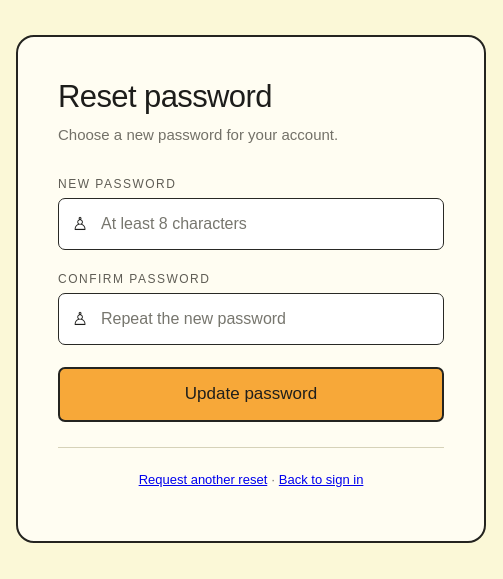
Test: ResetPassword page › shows the server error for an expired token and offers another reset
This screenshot has width=503, height=579.
Type "newpass12" into the password field labelled "NEW PASSWORD" at x=272, y=224, box [101,199,443,249]
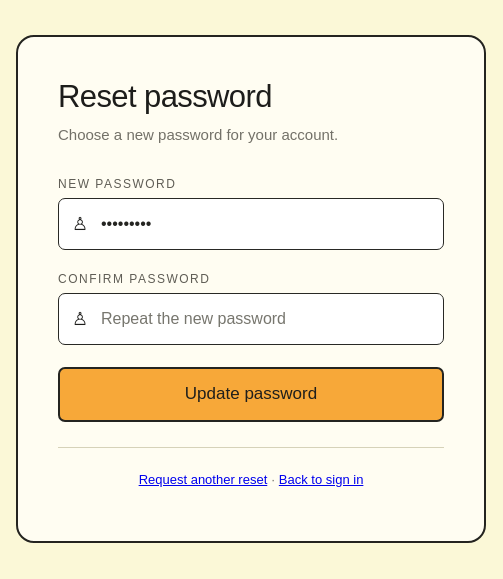
Type "newpass12" into the password field labelled "CONFIRM PASSWORD" at x=272, y=319, box [101,294,443,344]
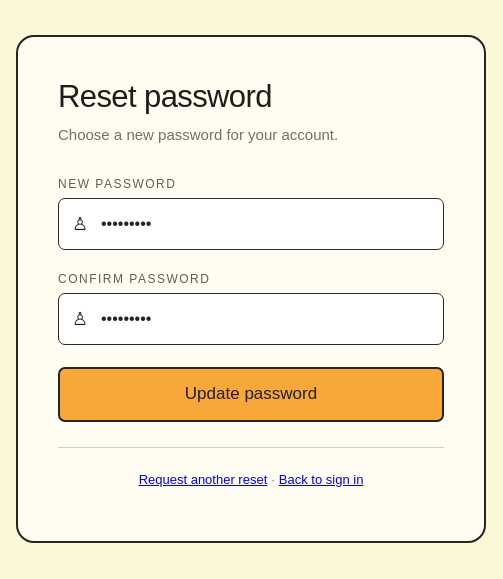
Click the button "Update password" at x=251, y=394, box [58,367,444,422]
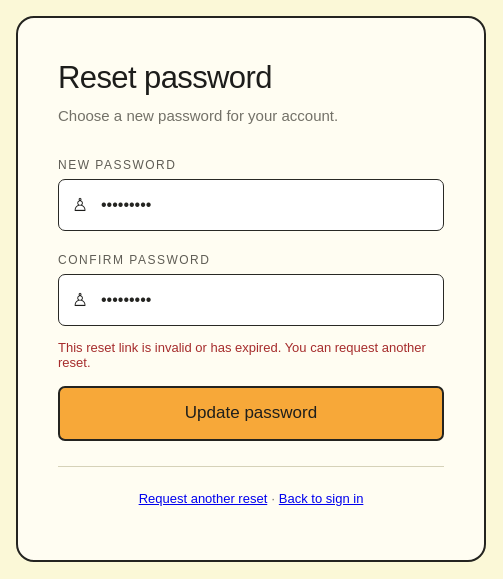
Check: the message shows "request another reset", box [58,340,426,370]
